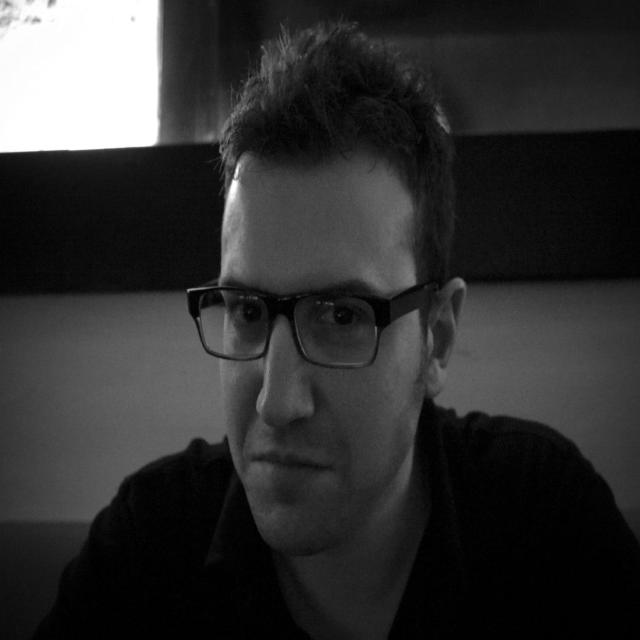no-glass: (226, 296, 364, 342)
